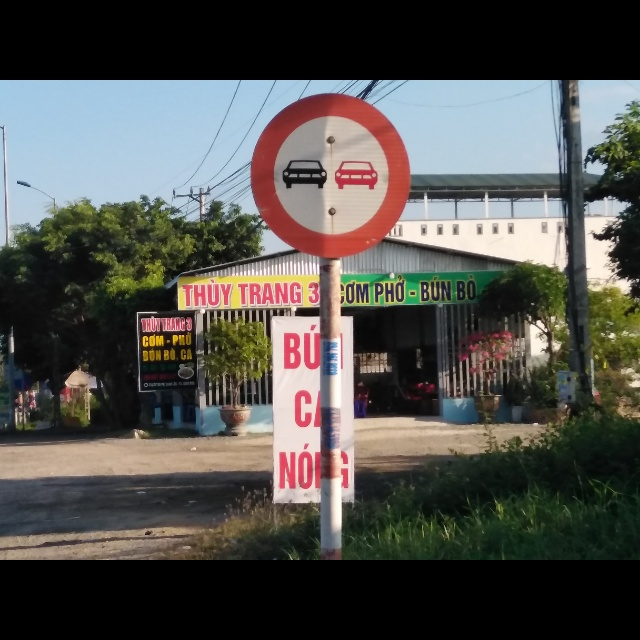Cấm vượt: (249, 92, 410, 262)
